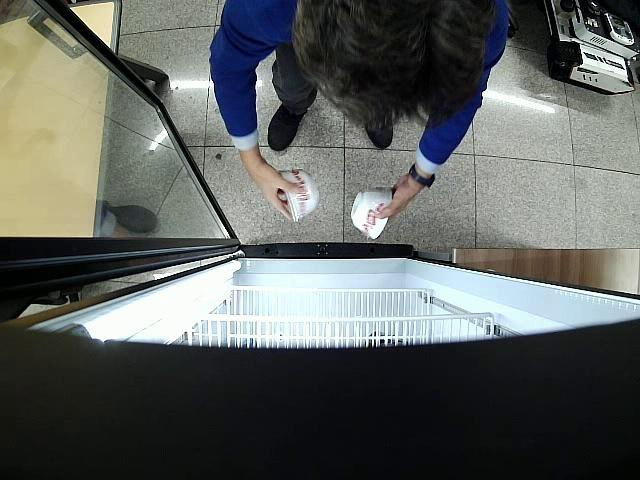09_yukGaeJang: (350, 187, 392, 239), (278, 170, 319, 222)
